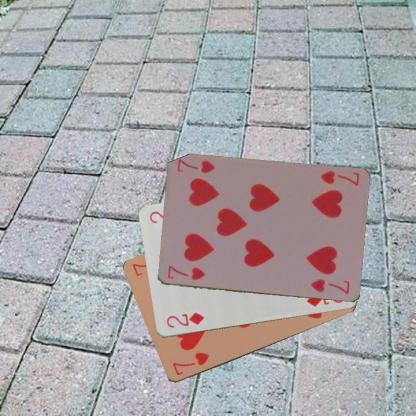2d: (164, 310, 206, 329)
7h: (170, 350, 211, 377), (317, 168, 361, 187), (165, 262, 206, 282)
